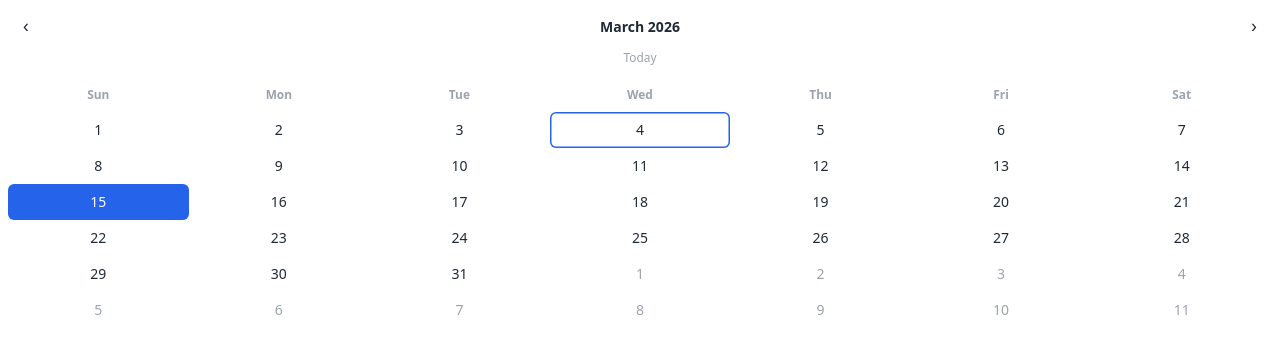
Test case: CalendarWidget quick navigation › selects a month from month picker and returns to day grid
# Open month picker
Click the button with aria-label "choose month and year".
click(640, 27)  # box [592,16,688,38]
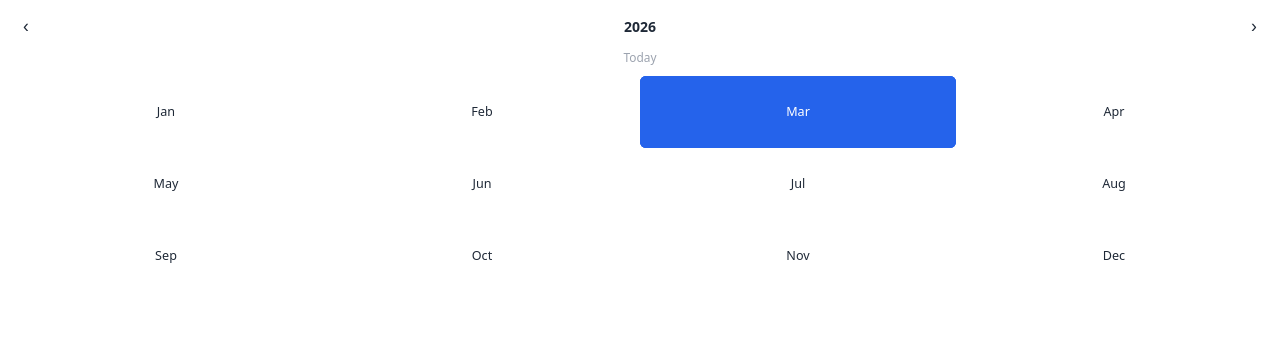
# Click June
Click the text "Jun".
click(482, 184)  # box [324,148,640,220]
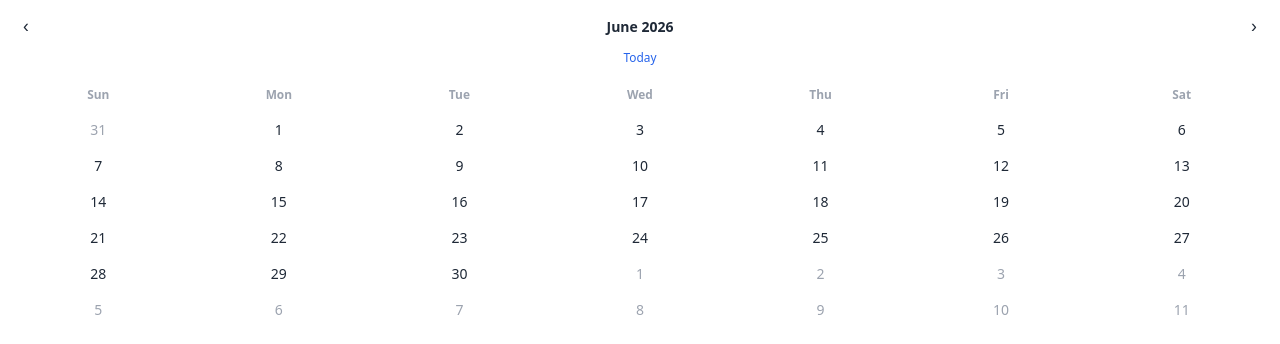
Result: the table named "Calendar" is shown
Result: the button with aria-label "choose month and year, currently june 2026" is shown at [598,16,682,38]
